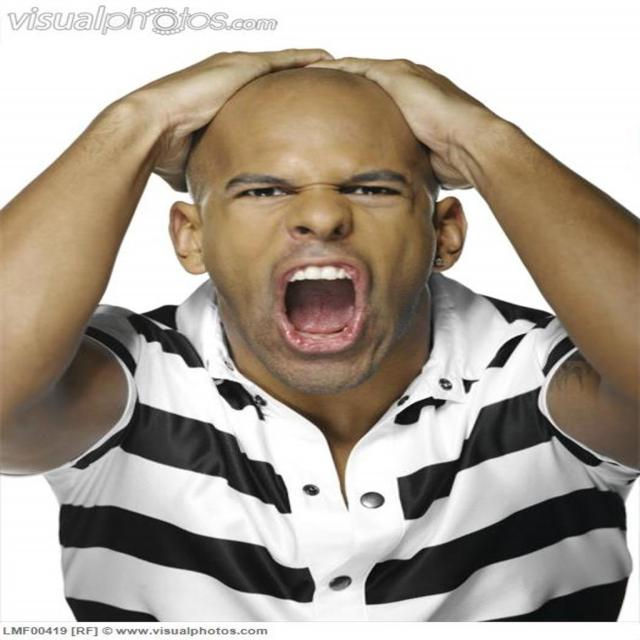nomask: (200, 108, 432, 396)
